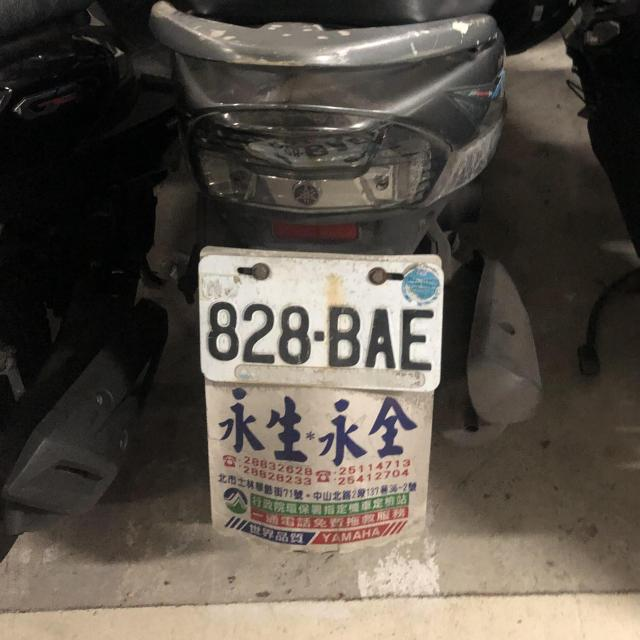W: (192, 239, 451, 394)
